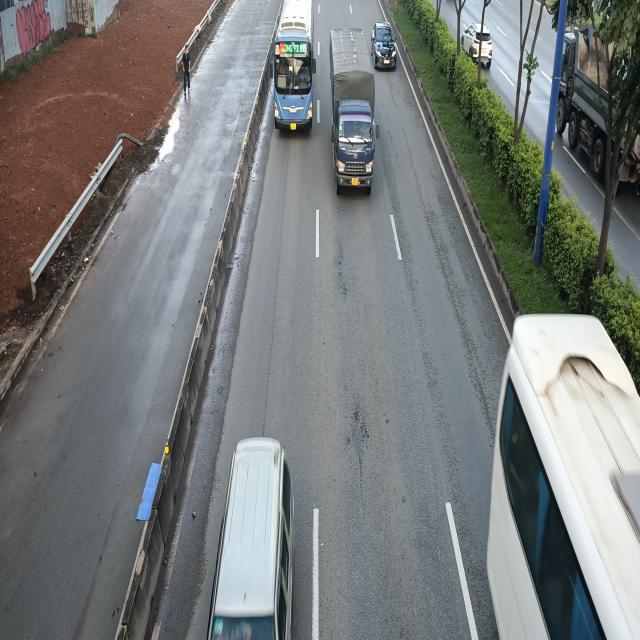car: (196, 440, 302, 640), (372, 22, 396, 70)
coach: (486, 313, 640, 640), (268, 1, 316, 136)
truck: (331, 26, 378, 193)
